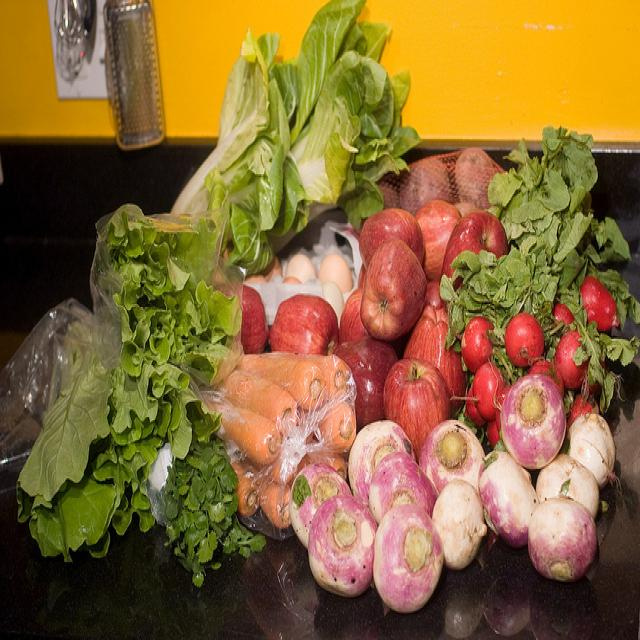Healty Apple: (361, 239, 428, 339), (441, 210, 508, 308), (385, 358, 449, 450), (336, 339, 396, 424), (270, 294, 340, 363), (414, 200, 461, 280), (359, 210, 425, 264), (239, 284, 268, 353)
